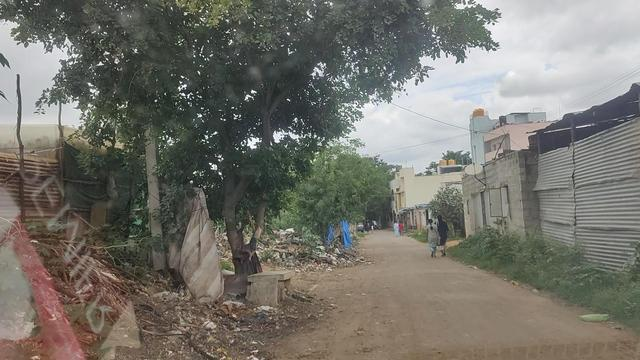UnsurfacedRoad: (350, 286, 579, 354)
